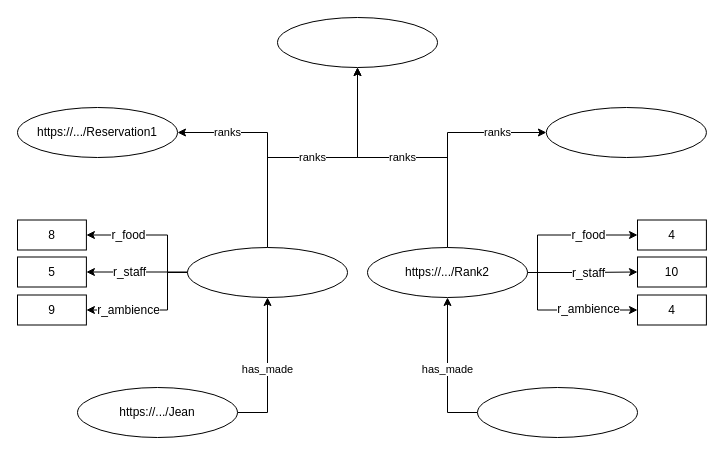
The diagram is 724 pixels wide and 455 high, and some of its shapes have lost their labels. The shapes that lost their labels are listed below. From the top down, each one's centre as x and y in pixels, then its label:
(357,42): https://.../Le_Cygne
(625,132): https://.../Reservation2
(267,272): https://.../Rank1
(557,412): https://.../Marc
